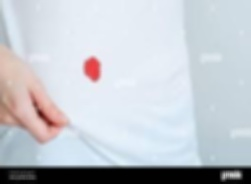blood: (83, 56, 102, 82)
